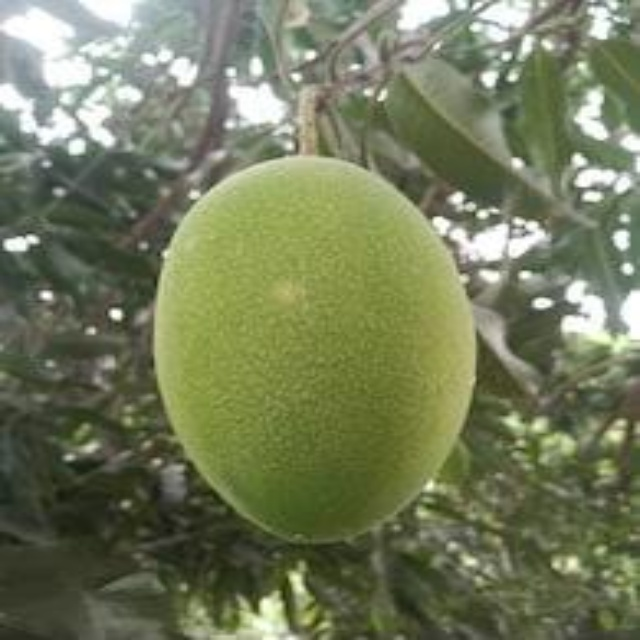mango: (154, 153, 482, 542)
